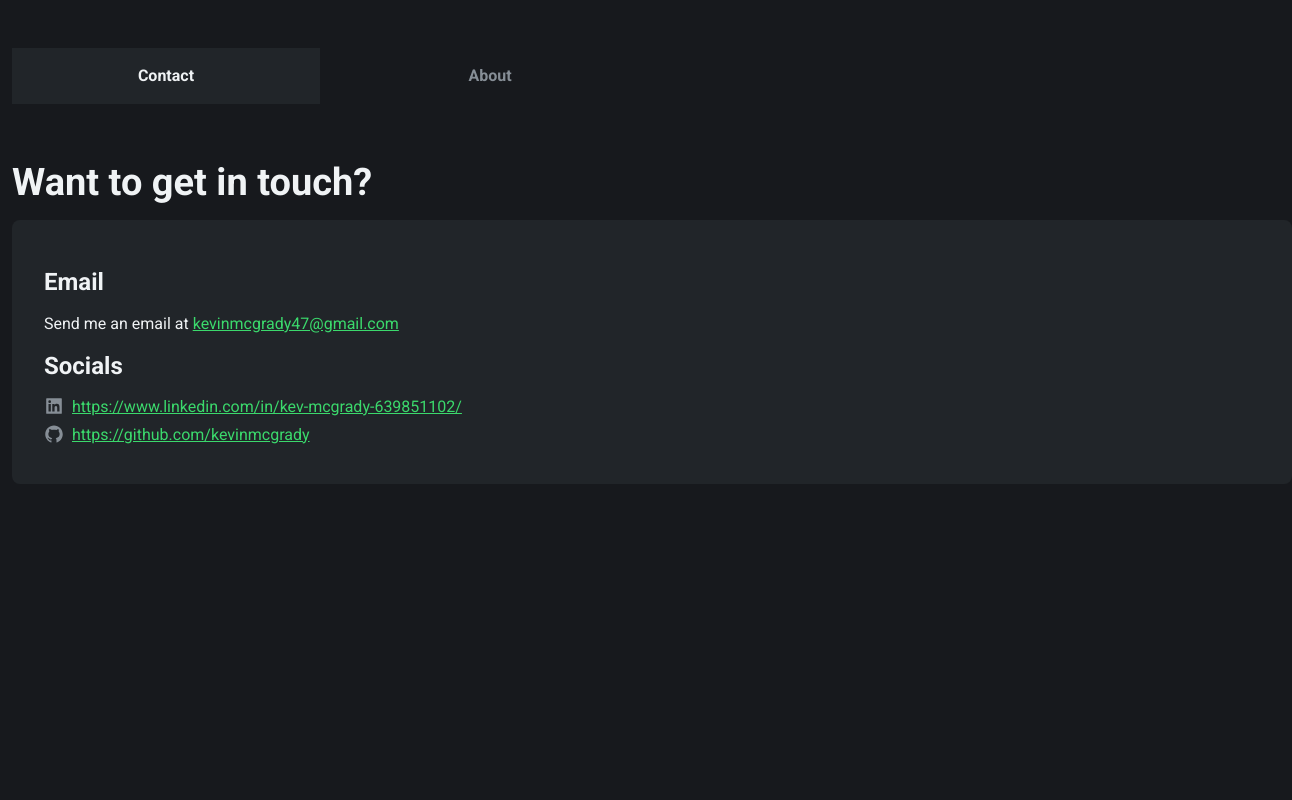
display correct tab
Expected: the text "Contact" is shown, x1=12 y1=48 x2=320 y2=104
Expected: the heading "Want to get in touch?" is shown, x1=12 y1=160 x2=372 y2=204
Click the text "About" at (490, 76), box x1=468 y1=66 x2=512 y2=85
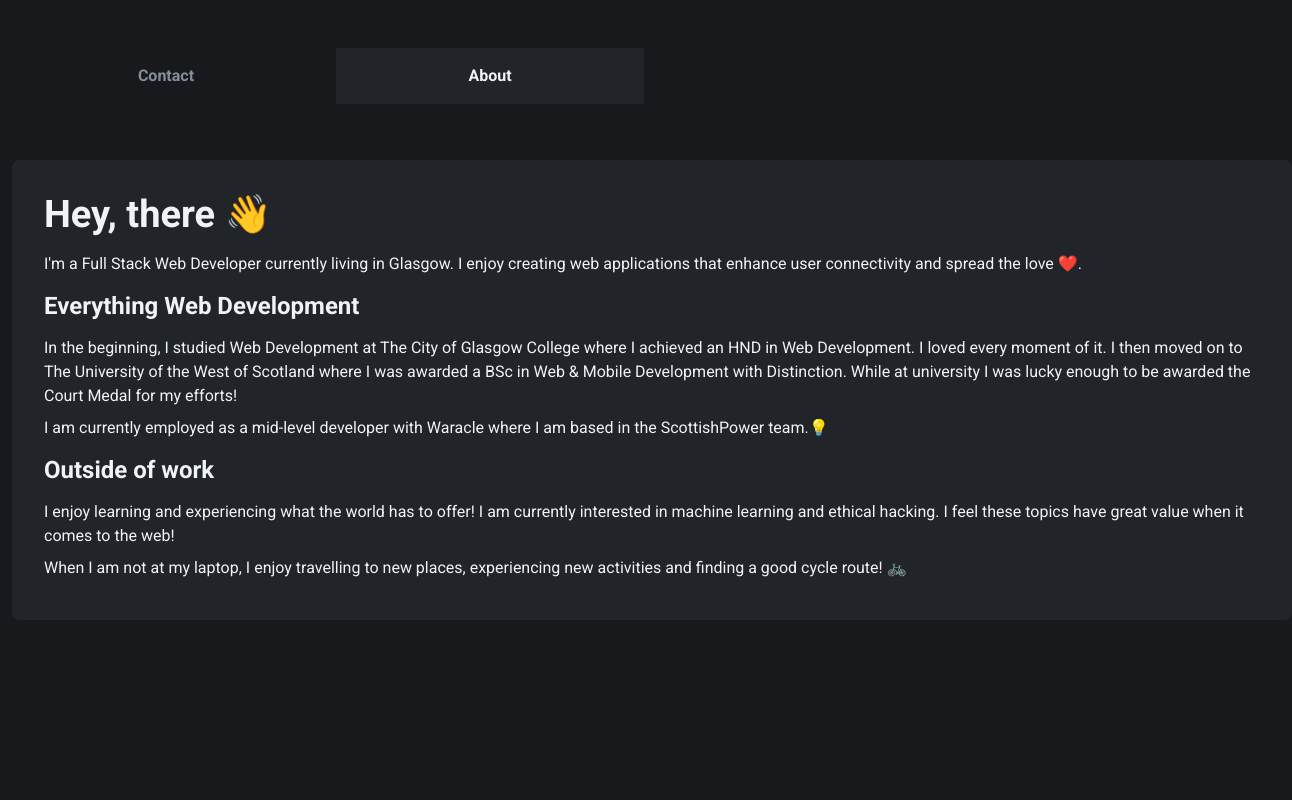
Now the heading "Everything Web Development" is shown, box x1=44 y1=292 x2=359 y2=320
